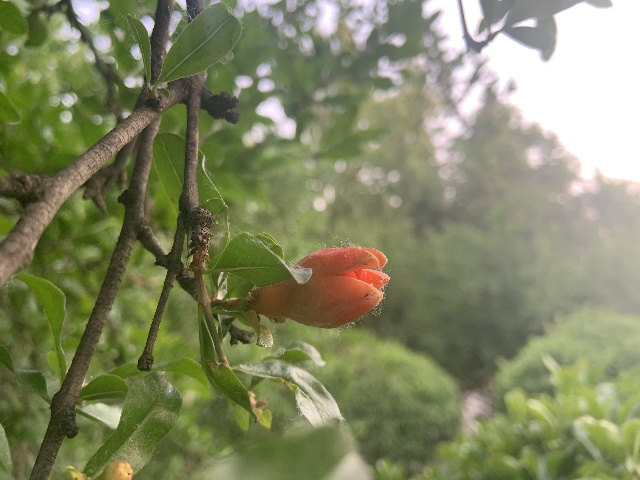flower: (252, 246, 390, 329)
